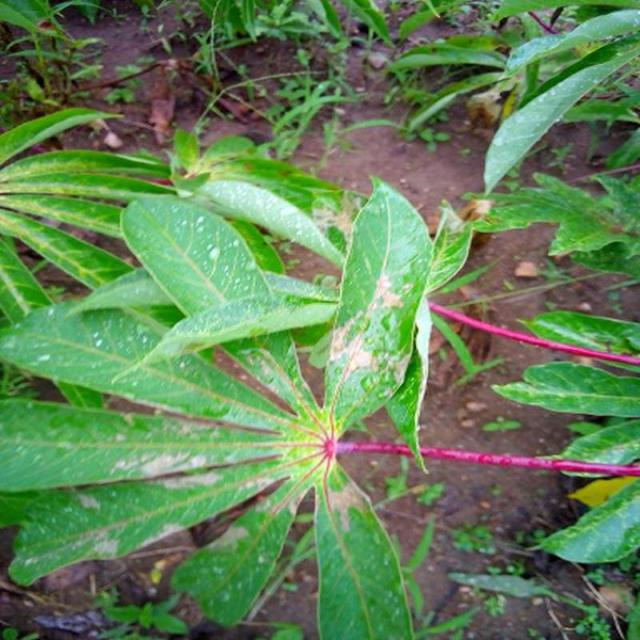cassava leaf: (324, 174, 436, 455)
